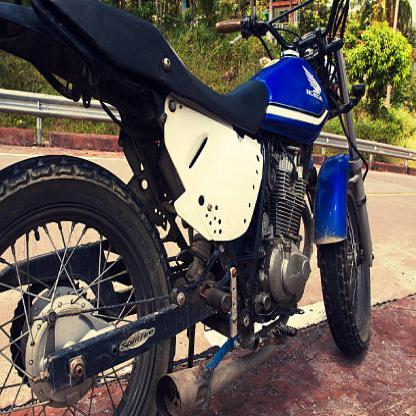Motorcycle: (1, 0, 379, 415)
